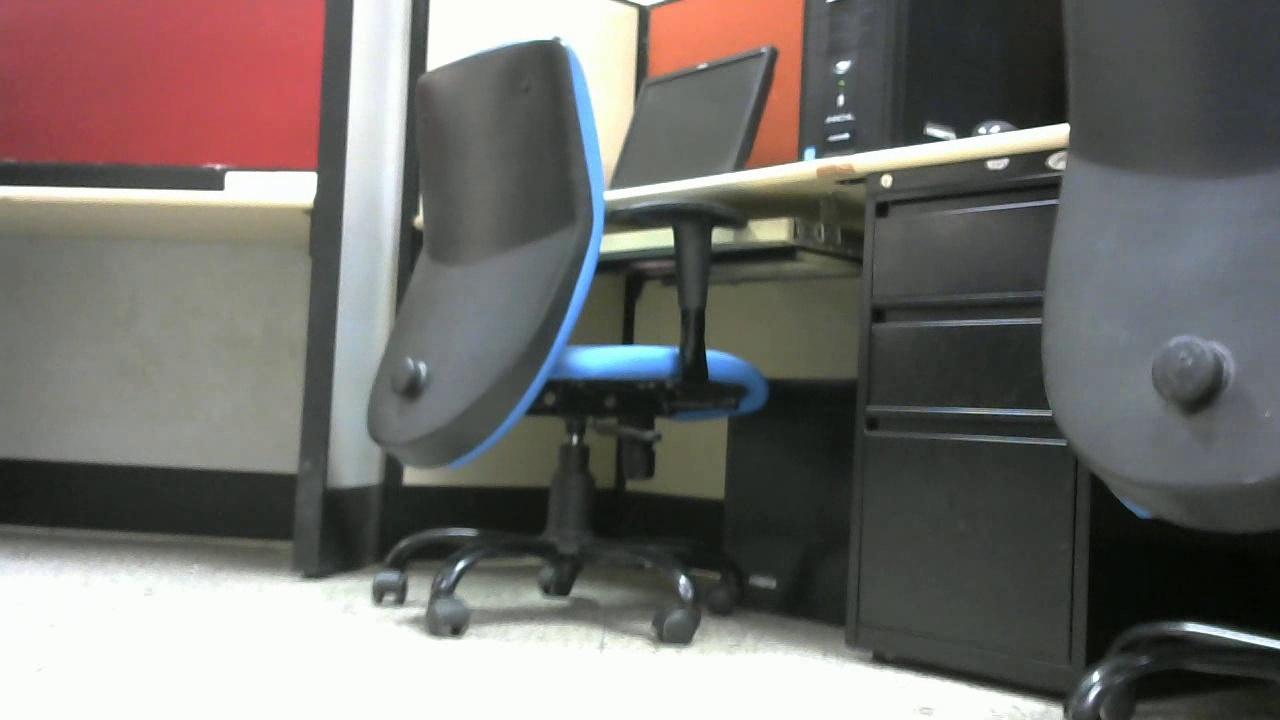chair: (367, 38, 775, 651), (1037, 1, 1280, 720)
